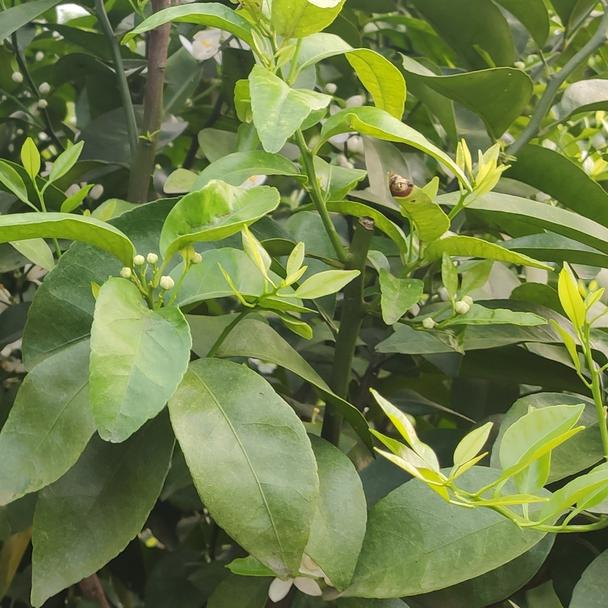shoot: (381, 396, 584, 545), (218, 240, 348, 337), (2, 134, 89, 248), (547, 278, 608, 390), (451, 141, 505, 219)
